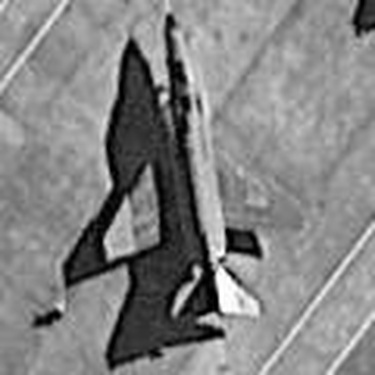airplane: (58, 3, 328, 362)
